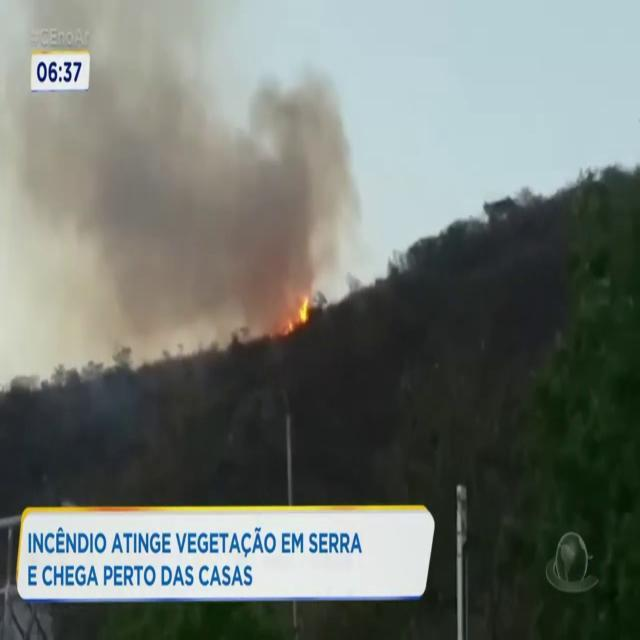Fire: (276, 316, 296, 339), (298, 298, 308, 326)
Smoke: (0, 2, 359, 346)
